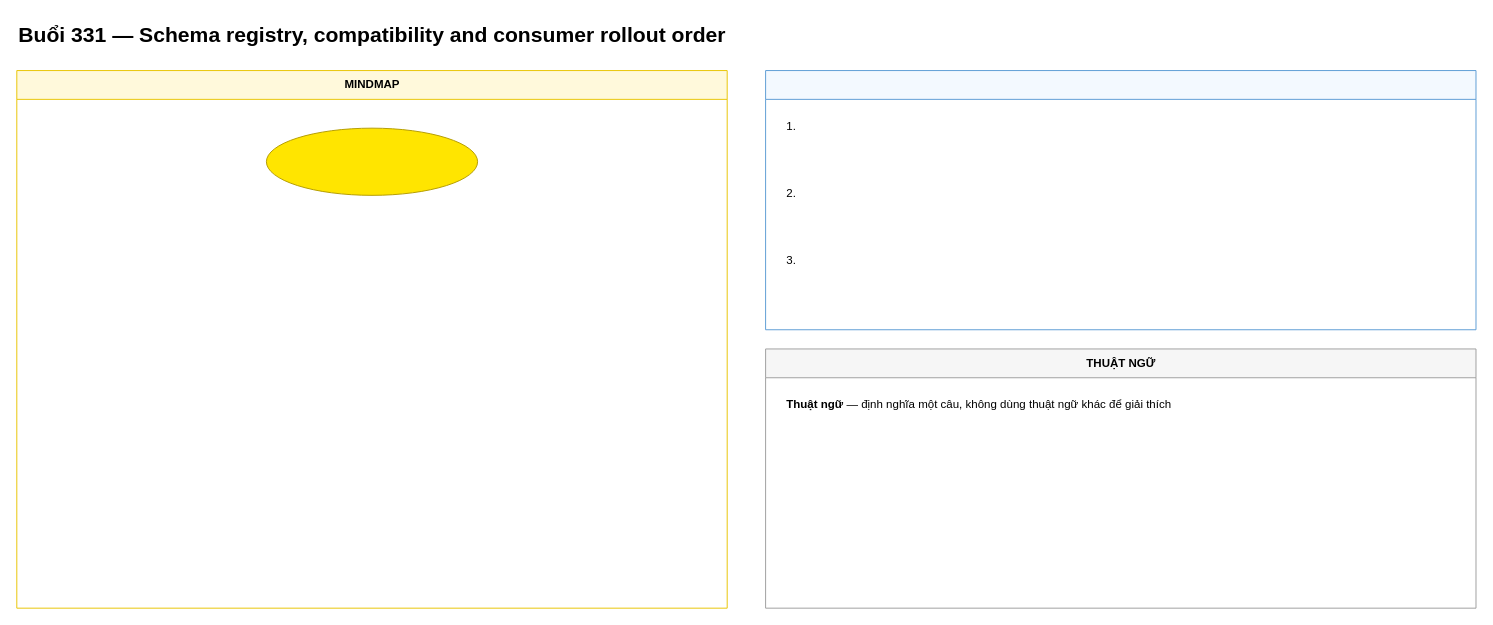
The diagram is 1493 pixels wide and 625 high, and some of its shapes have lost their labels. The shapes that lost their labels are listed below. From the top down, each one's box as (x1, y1, x2, y2) in pixels, then its label:
(265, 127, 478, 195): Schema registry, compatibility and consumer rollout order
(765, 70, 1476, 330): KEY TAKEAWAY — ba điều phải nhớ
